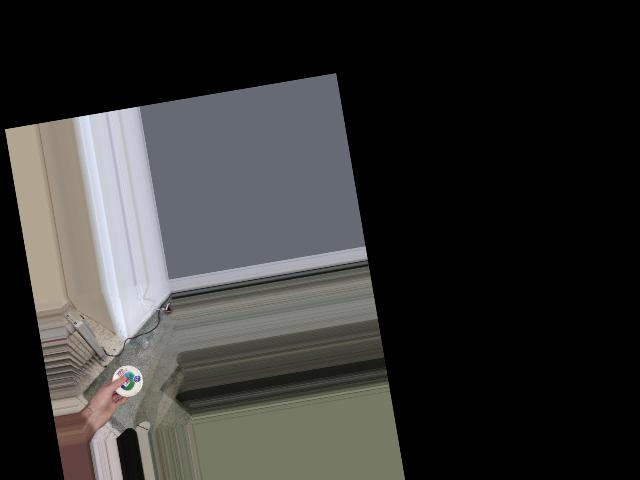cotage: (109, 365, 143, 398)
